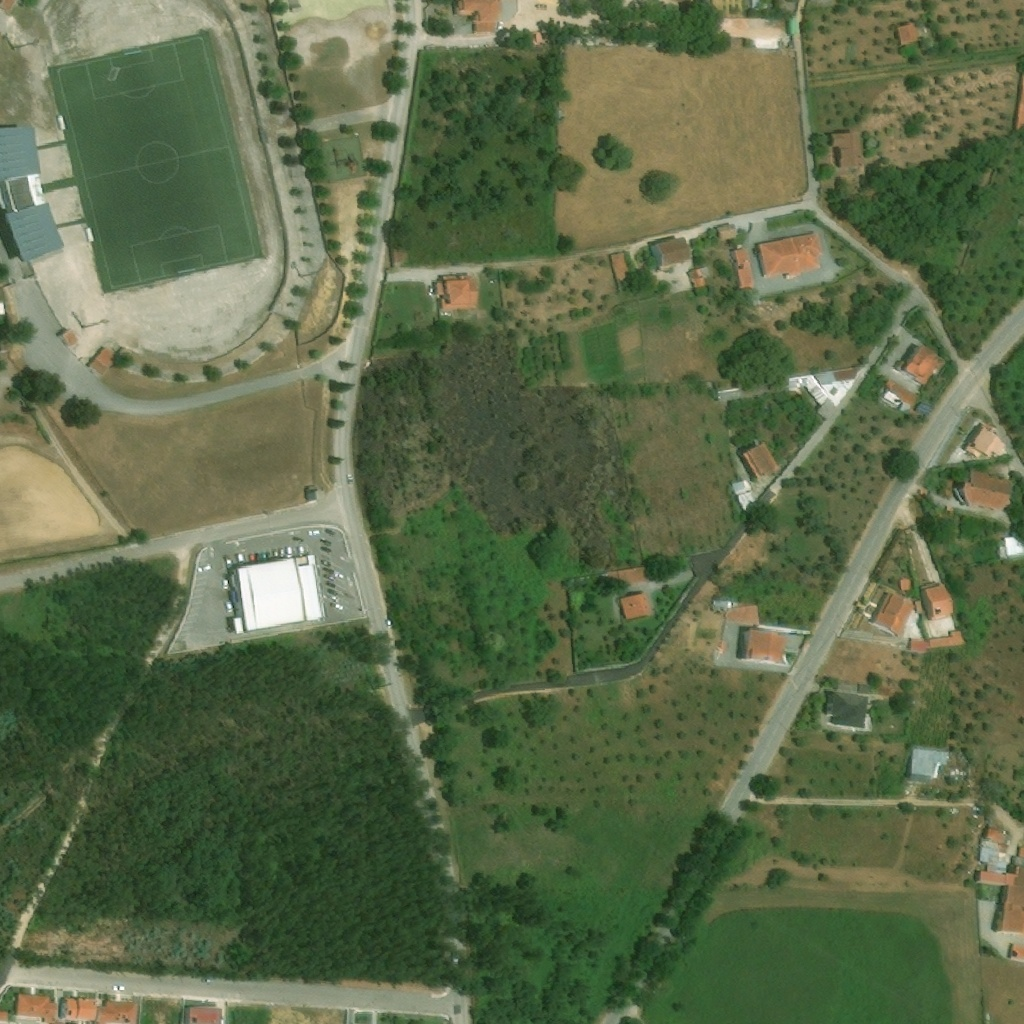0 no-damage: (0, 125, 67, 262), (226, 552, 326, 635), (788, 365, 862, 424), (975, 845, 1023, 934), (755, 231, 824, 278), (318, 132, 365, 184), (893, 343, 947, 388), (960, 468, 1012, 511), (869, 591, 915, 637), (58, 997, 136, 1023), (738, 628, 786, 668), (737, 439, 780, 482), (825, 689, 873, 727), (963, 421, 1007, 459), (435, 275, 479, 312), (453, 0, 499, 32), (879, 380, 920, 415), (921, 582, 955, 622), (908, 747, 950, 779), (16, 993, 57, 1023), (653, 236, 693, 266), (977, 825, 1006, 865), (909, 630, 964, 650), (730, 478, 758, 514), (731, 248, 755, 289), (619, 591, 651, 621), (830, 131, 855, 169), (606, 564, 650, 585), (87, 346, 117, 376), (724, 603, 761, 627), (183, 1007, 224, 1023), (610, 252, 631, 282), (688, 264, 713, 289), (998, 534, 1023, 558), (896, 22, 917, 46), (61, 327, 79, 347), (717, 223, 737, 240), (721, 390, 734, 404), (531, 32, 543, 46), (899, 578, 912, 590)
4 un-classified: (706, 16, 787, 51), (1013, 73, 1023, 129), (1009, 943, 1023, 961), (0, 0, 18, 13), (0, 1012, 9, 1023), (0, 301, 6, 315), (697, 0, 709, 5)
